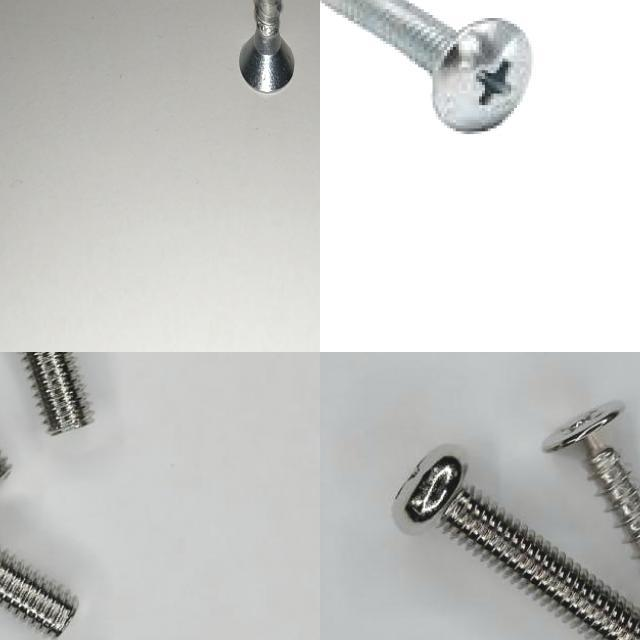Screw: (393, 445, 640, 640), (320, 0, 534, 131), (543, 401, 640, 557), (0, 550, 74, 637), (23, 352, 91, 434), (239, 0, 294, 92)
